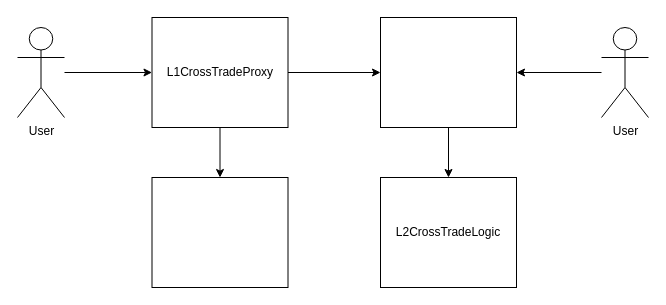
Some shapes in this 666 by 305 pixel diagram are drawn without their labels. The shapes that lost their labels are listed below. From the top down, each one's centre as x and y in pixels, then its label:
At (448,72): "L2CrossTradeProxy".
At (219,232): "L1CrossTradeLogic".
